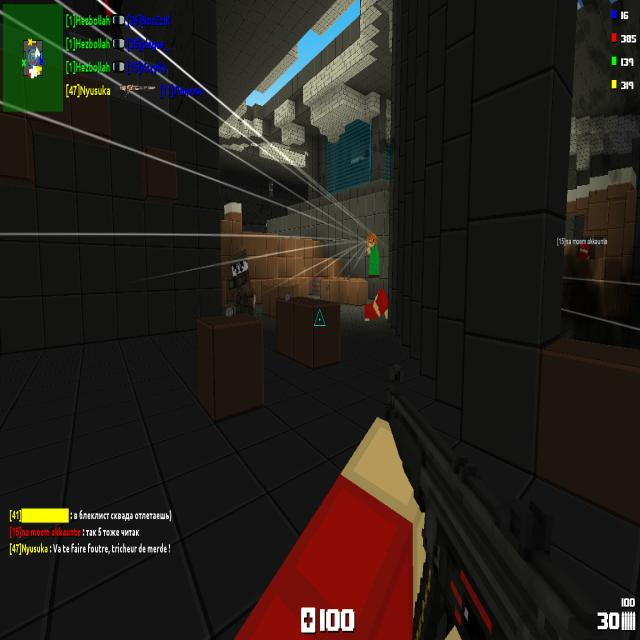enemy: (228, 249, 253, 315), (366, 232, 380, 278), (269, 180, 274, 198)
